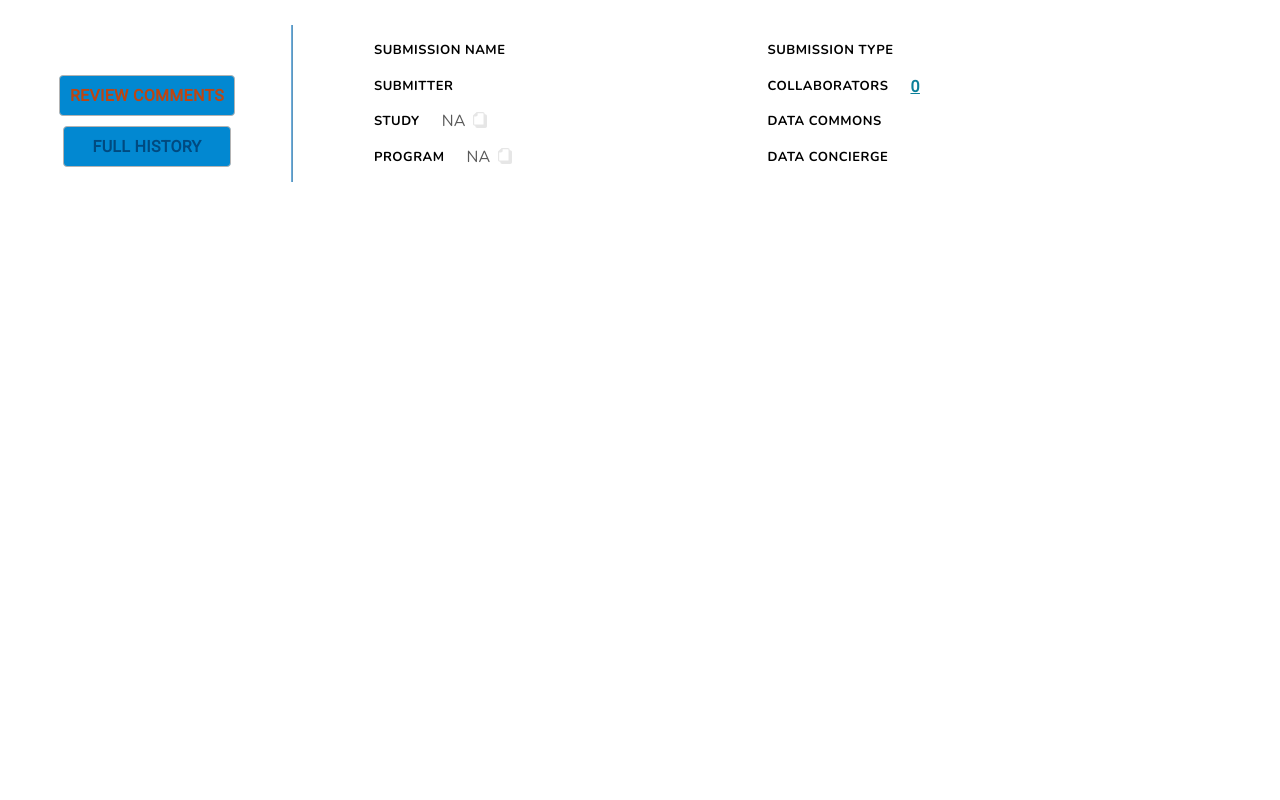
Test case: DataSubmissionSummary Review Comments Dialog Tests › only shows the review comment for the latest 'Rejected' submission, ignoring other statuses
The width and height of the screenshot is (1280, 800).
Click the button "Review Comments": (147, 96) [59,75,235,116]
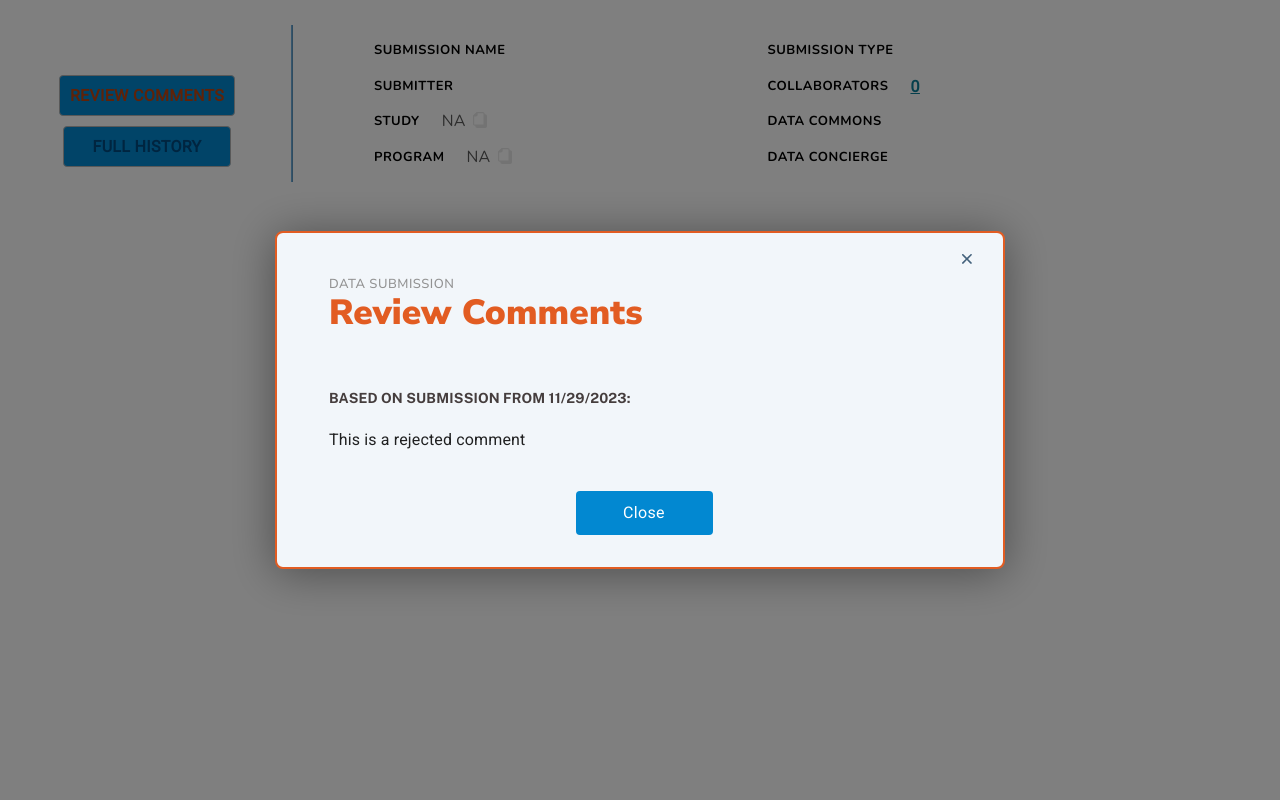
expect the text "This is a rejected comment" is shown: met, box [329,430,526,449]
